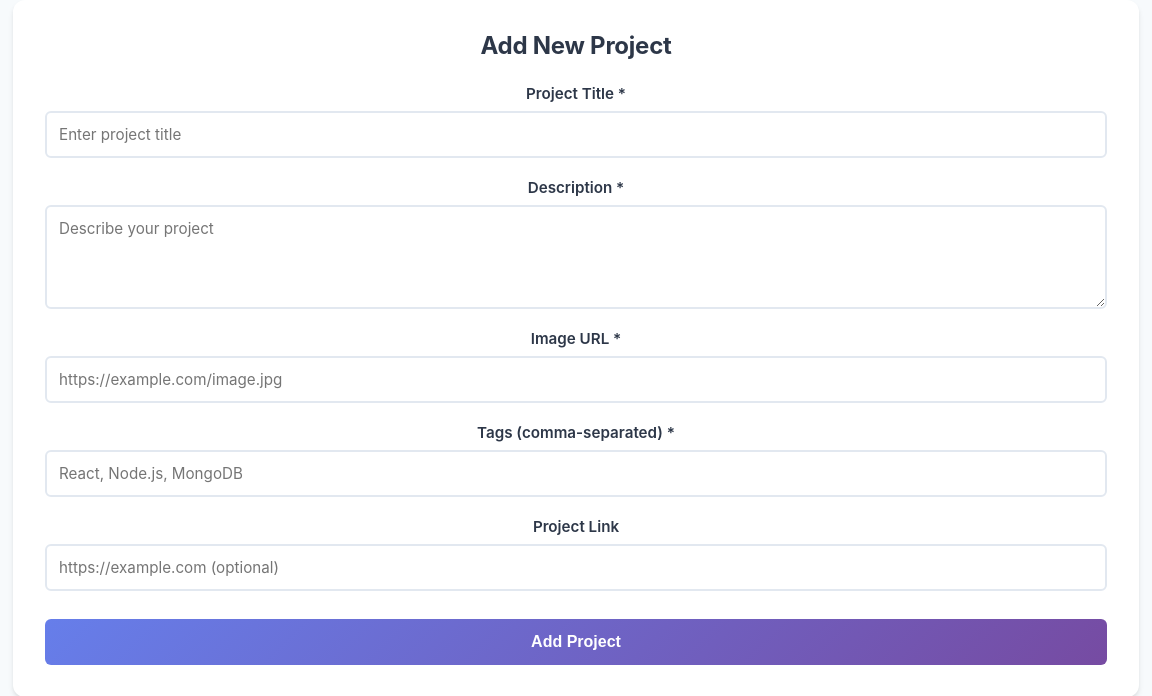
Test: ProjectForm Component › shows validation error when title is empty
Step 1. Click the button "Add Project" → point(576, 642), box 45,619 -> 1107,665
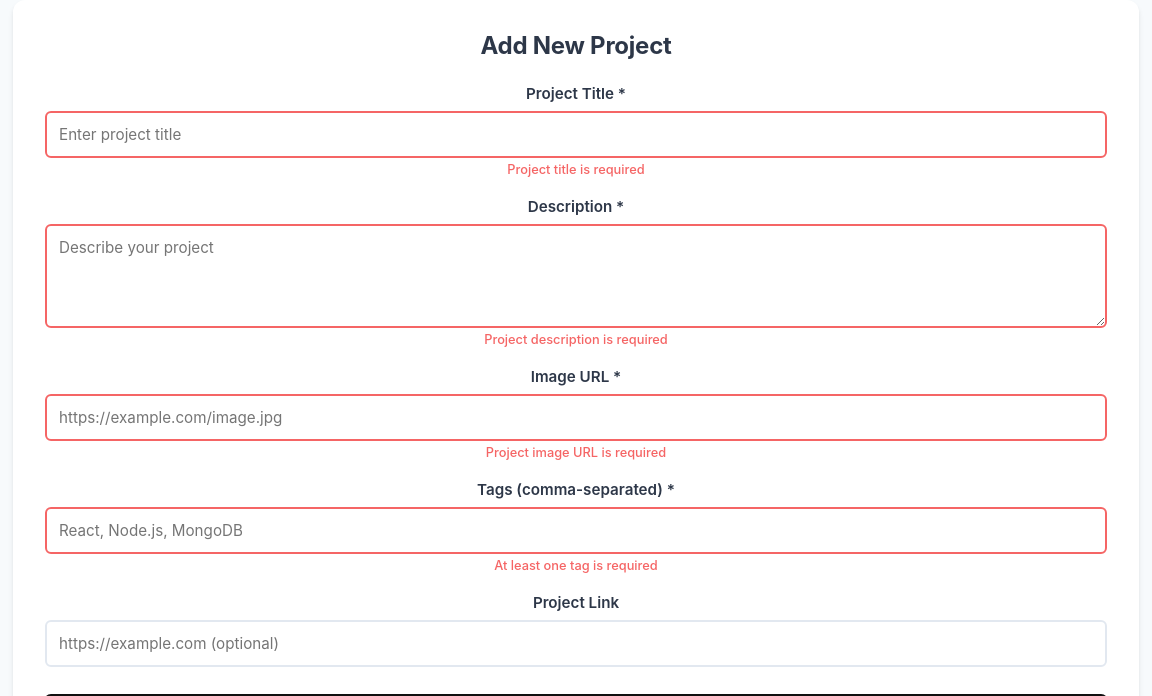
Expected: the text "Project title is required" is shown, 507,162 -> 645,177
